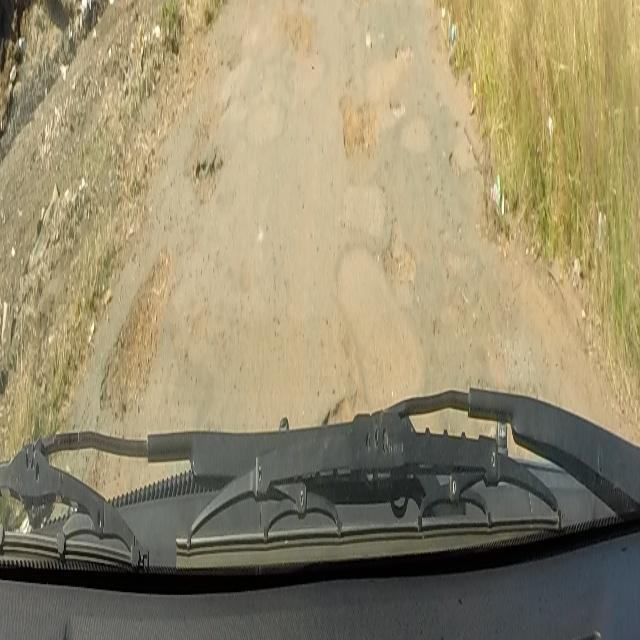pothole: (98, 258, 180, 430), (339, 41, 418, 162), (382, 228, 417, 292), (322, 382, 362, 428), (192, 156, 224, 210), (348, 0, 382, 16)
